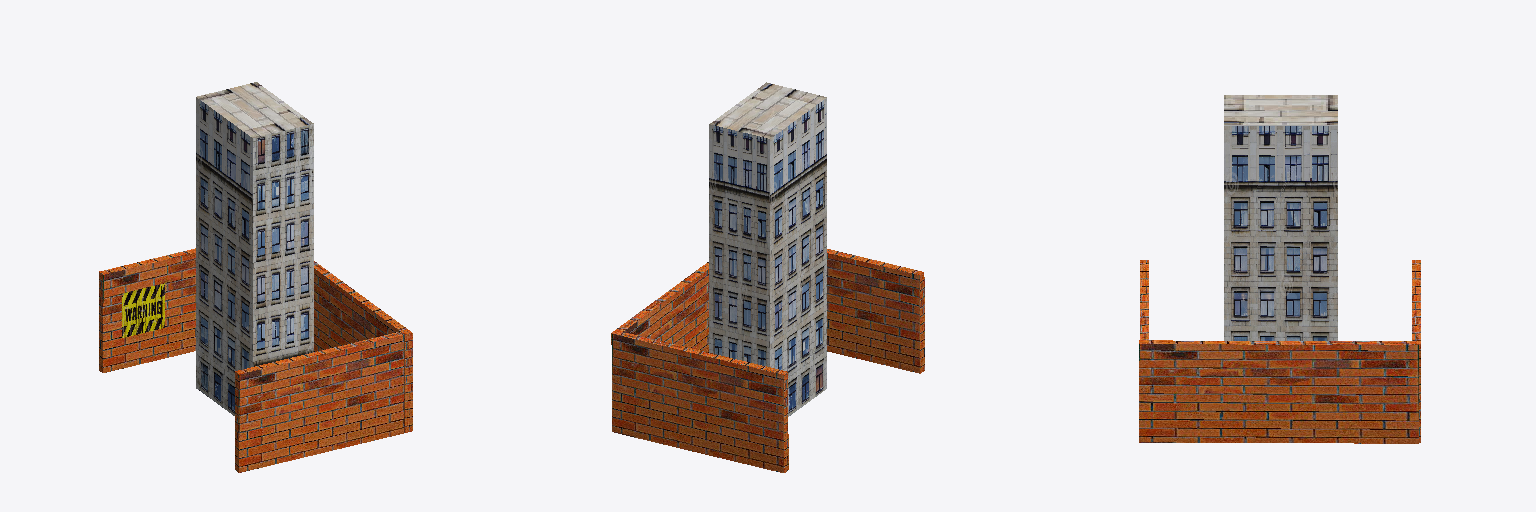
The picture shows the model from 3 angles: view 1: azimuth 30°, elevation 25°; view 2: azimuth 150°, elevation 25°; view 3: azimuth 270°, elevation 25°; orthographic projection.
Visible parts, largest first — view 1: Cube, Cubo.001, Cubo, Cubo.002, Plano; view 2: Cube, Cubo, Cubo.001, Cubo.002; view 3: Cubo.002, Cube, Cubo, Cubo.001.
Boxes of the visible parts, x1=… form: Cube: x1=196, y1=82, x2=313, y2=415; Cubo.001: x1=235, y1=332, x2=403, y2=472; Cubo: x1=99, y1=248, x2=195, y2=372; Cubo.002: x1=314, y1=261, x2=412, y2=432; Plano: x1=122, y1=283, x2=164, y2=337; Cube: x1=709, y1=82, x2=826, y2=416; Cubo: x1=612, y1=330, x2=788, y2=472; Cubo.001: x1=827, y1=249, x2=924, y2=373; Cubo.002: x1=611, y1=262, x2=708, y2=352; Cubo.002: x1=1139, y1=340, x2=1418, y2=443; Cube: x1=1224, y1=95, x2=1337, y2=340; Cubo: x1=1412, y1=260, x2=1420, y2=442; Cubo.001: x1=1140, y1=260, x2=1148, y2=339.
Size of the model in its own units: 8.1 by 12.99 by 11.41.
5 materials, 3 textured.